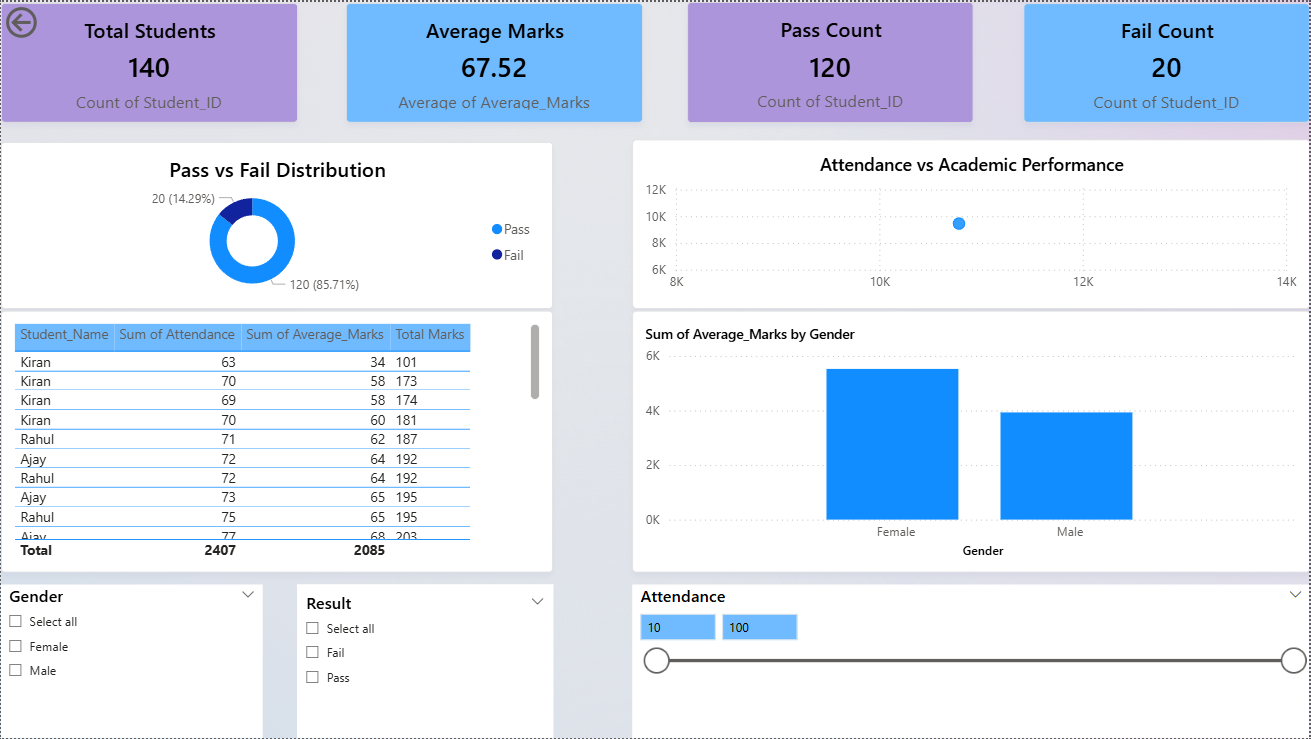

This screenshot's page, from the dashboard's own definition file:
{"tool":"powerbi","page":{"name":"Page 1","canvas":[1280,720],"ordinal":0},"visuals":[{"type":"card","title":"Total Students","fields":{"Values":["CountNonNull(StudentData.Student_ID)"]},"box":[0,1.4,290,117.1],"z":0},{"type":"card","title":"Average Marks","fields":{"Values":["Avg(StudentData.Average_Marks)"]},"box":[337.1,1.4,290,117.1],"z":1000},{"type":"actionButton","box":[0,0,100,40],"z":2000},{"type":"card","title":"Pass Count","fields":{"Values":["CountNonNull(StudentData.Student_ID)"]},"box":[671.4,0,280,118.6],"z":3000},{"type":"card","title":"Fail Count","fields":{"Values":["CountNonNull(StudentData.Student_ID)"]},"box":[1000,1.4,280,117.1],"z":4000},{"type":"donutChart","title":"Pass vs Fail Distribution","fields":{"Category":["StudentData.Result"],"Y":["CountNonNull(StudentData.Student_ID)"]},"box":[0,137.1,540,162.9],"z":5000},{"type":"scatterChart","title":" Attendance vs Academic Performance","fields":{"Y":["Sum(StudentData.Average_Marks)"],"X":["Sum(StudentData.Attendance)"],"Size":["CountNonNull(StudentData.Total Marks)"]},"box":[617.1,134.3,662.9,165.7],"z":6000},{"type":"tableEx","fields":{"Values":["StudentData.Student_Name","Sum(StudentData.Attendance)","Sum(StudentData.Average_Marks)","StudentData.Total Marks"]},"box":[0,301.4,540,255.7],"z":7000},{"type":"columnChart","fields":{"Category":["StudentData.Gender"],"Y":["Sum(StudentData.Average_Marks)"]},"box":[617.1,301.4,662.9,255.7],"z":8000},{"type":"slicer","fields":{"Values":["StudentData.Gender"]},"box":[0,570,255.7,150],"z":9000},{"type":"slicer","fields":{"Values":["StudentData.Result"]},"box":[290,570,250,150],"z":10000},{"type":"slicer","fields":{"Values":["StudentData.Attendance"]},"box":[617.1,570,662.9,150],"z":11000}]}

Visuals, with their boxes in screenshot pixels (x1, y1, x2, y2), scaled from the page's 1280x720 canvas onto the 1311x739 screenshot:
"Total Students" card: [0, 1, 297, 122]
"Average Marks" card: [345, 1, 642, 122]
actionButton: [0, 0, 102, 41]
"Pass Count" card: [688, 0, 974, 122]
"Fail Count" card: [1024, 1, 1310, 122]
"Pass vs Fail Distribution" donutChart: [0, 141, 553, 308]
" Attendance vs Academic Performance" scatterChart: [632, 138, 1310, 308]
tableEx - StudentData.Student_Name x Sum(StudentData.Attendance): [0, 309, 553, 572]
columnChart - StudentData.Gender x Sum(StudentData.Average_Marks): [632, 309, 1310, 572]
slicer - StudentData.Gender: [0, 585, 262, 738]
slicer - StudentData.Result: [297, 585, 553, 738]
slicer - StudentData.Attendance: [632, 585, 1310, 738]
